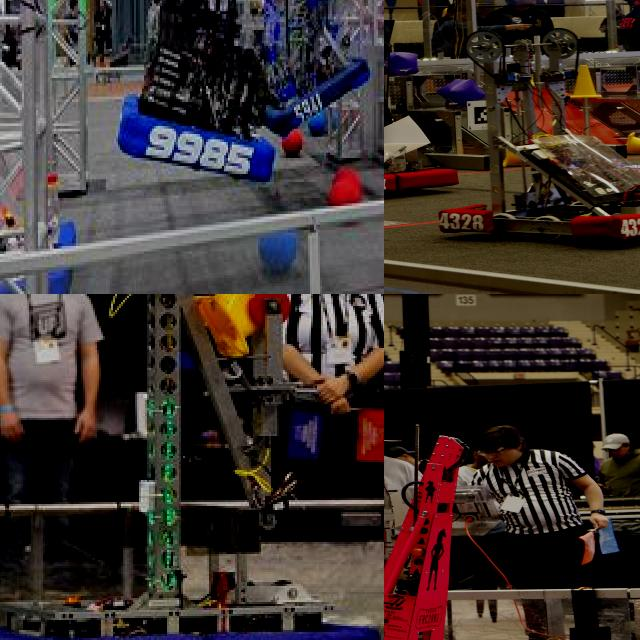FRC-Robots: (0, 294, 384, 640), (440, 63, 640, 255), (384, 425, 549, 640), (99, 0, 283, 179), (247, 0, 377, 131), (384, 70, 435, 214)
